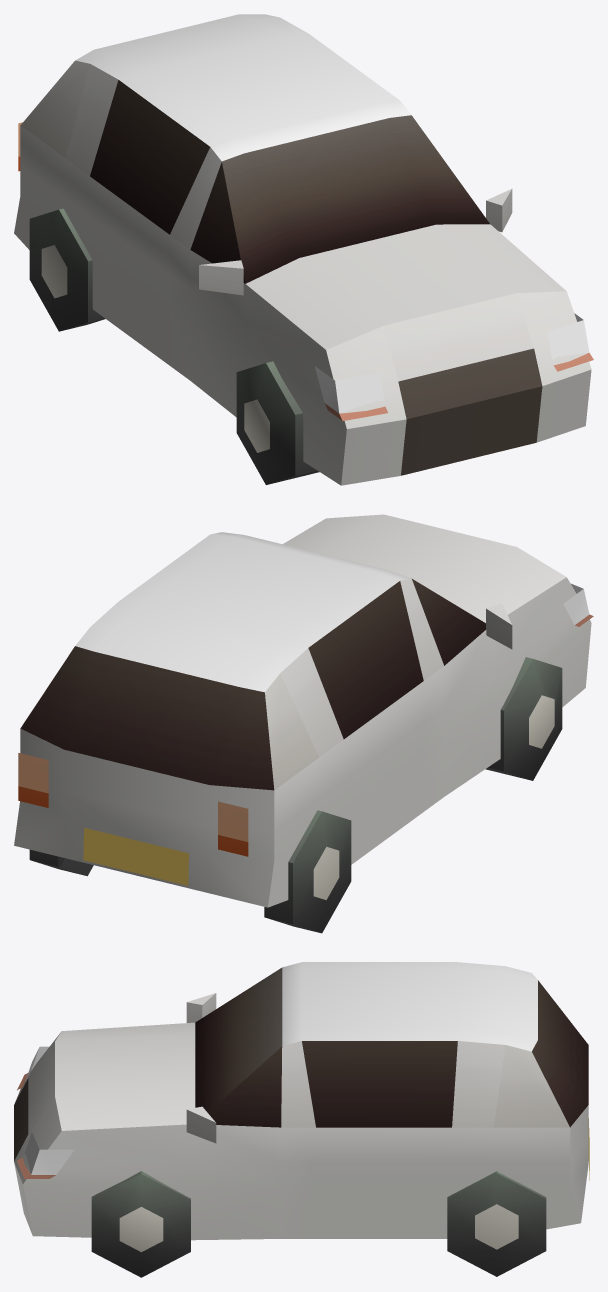
File: Traffic_Car_02.fbx
3 views of the same model, one above another, from view 1: azimuth 30°, elevation 25°; view 2: azimuth 150°, elevation 25°; view 3: azimuth 270°, elevation 25° (orthographic). The views are drawn at different scales.
Parts seen in each view (by area): view 1: Traffic_Car_02; view 2: Traffic_Car_02; view 3: Traffic_Car_02.
Part boxes in pixels (box(x1,y1,x2,y2)): Traffic_Car_02: box(14, 14, 593, 485); Traffic_Car_02: box(14, 514, 593, 933); Traffic_Car_02: box(14, 962, 589, 1277).
Bounding box in the file's own units: 0.7298 × 0.5846 × 1.38.
